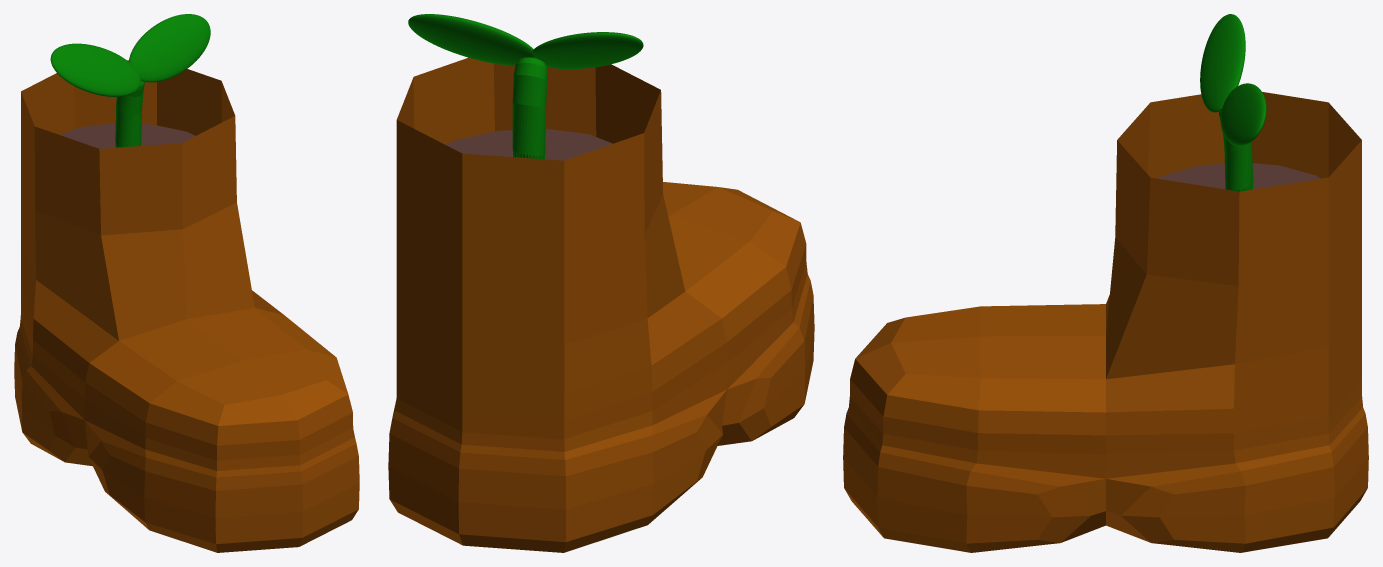
Rendered from wellington_derekyang.fbx.
3 views of the same model, side by side, from view 1: azimuth 30°, elevation 25°; view 2: azimuth 150°, elevation 25°; view 3: azimuth 270°, elevation 25° (orthographic). The views are drawn at different scales.
Visible parts, largest first — view 1: Boot; view 2: Boot; view 3: Boot.
Part boxes in pixels (left/top/right/bottom): Boot: left=14, top=14, right=359, bottom=552; Boot: left=388, top=14, right=814, bottom=552; Boot: left=843, top=14, right=1368, bottom=552.
Size of the model in its own units: 212 by 370 by 394.
